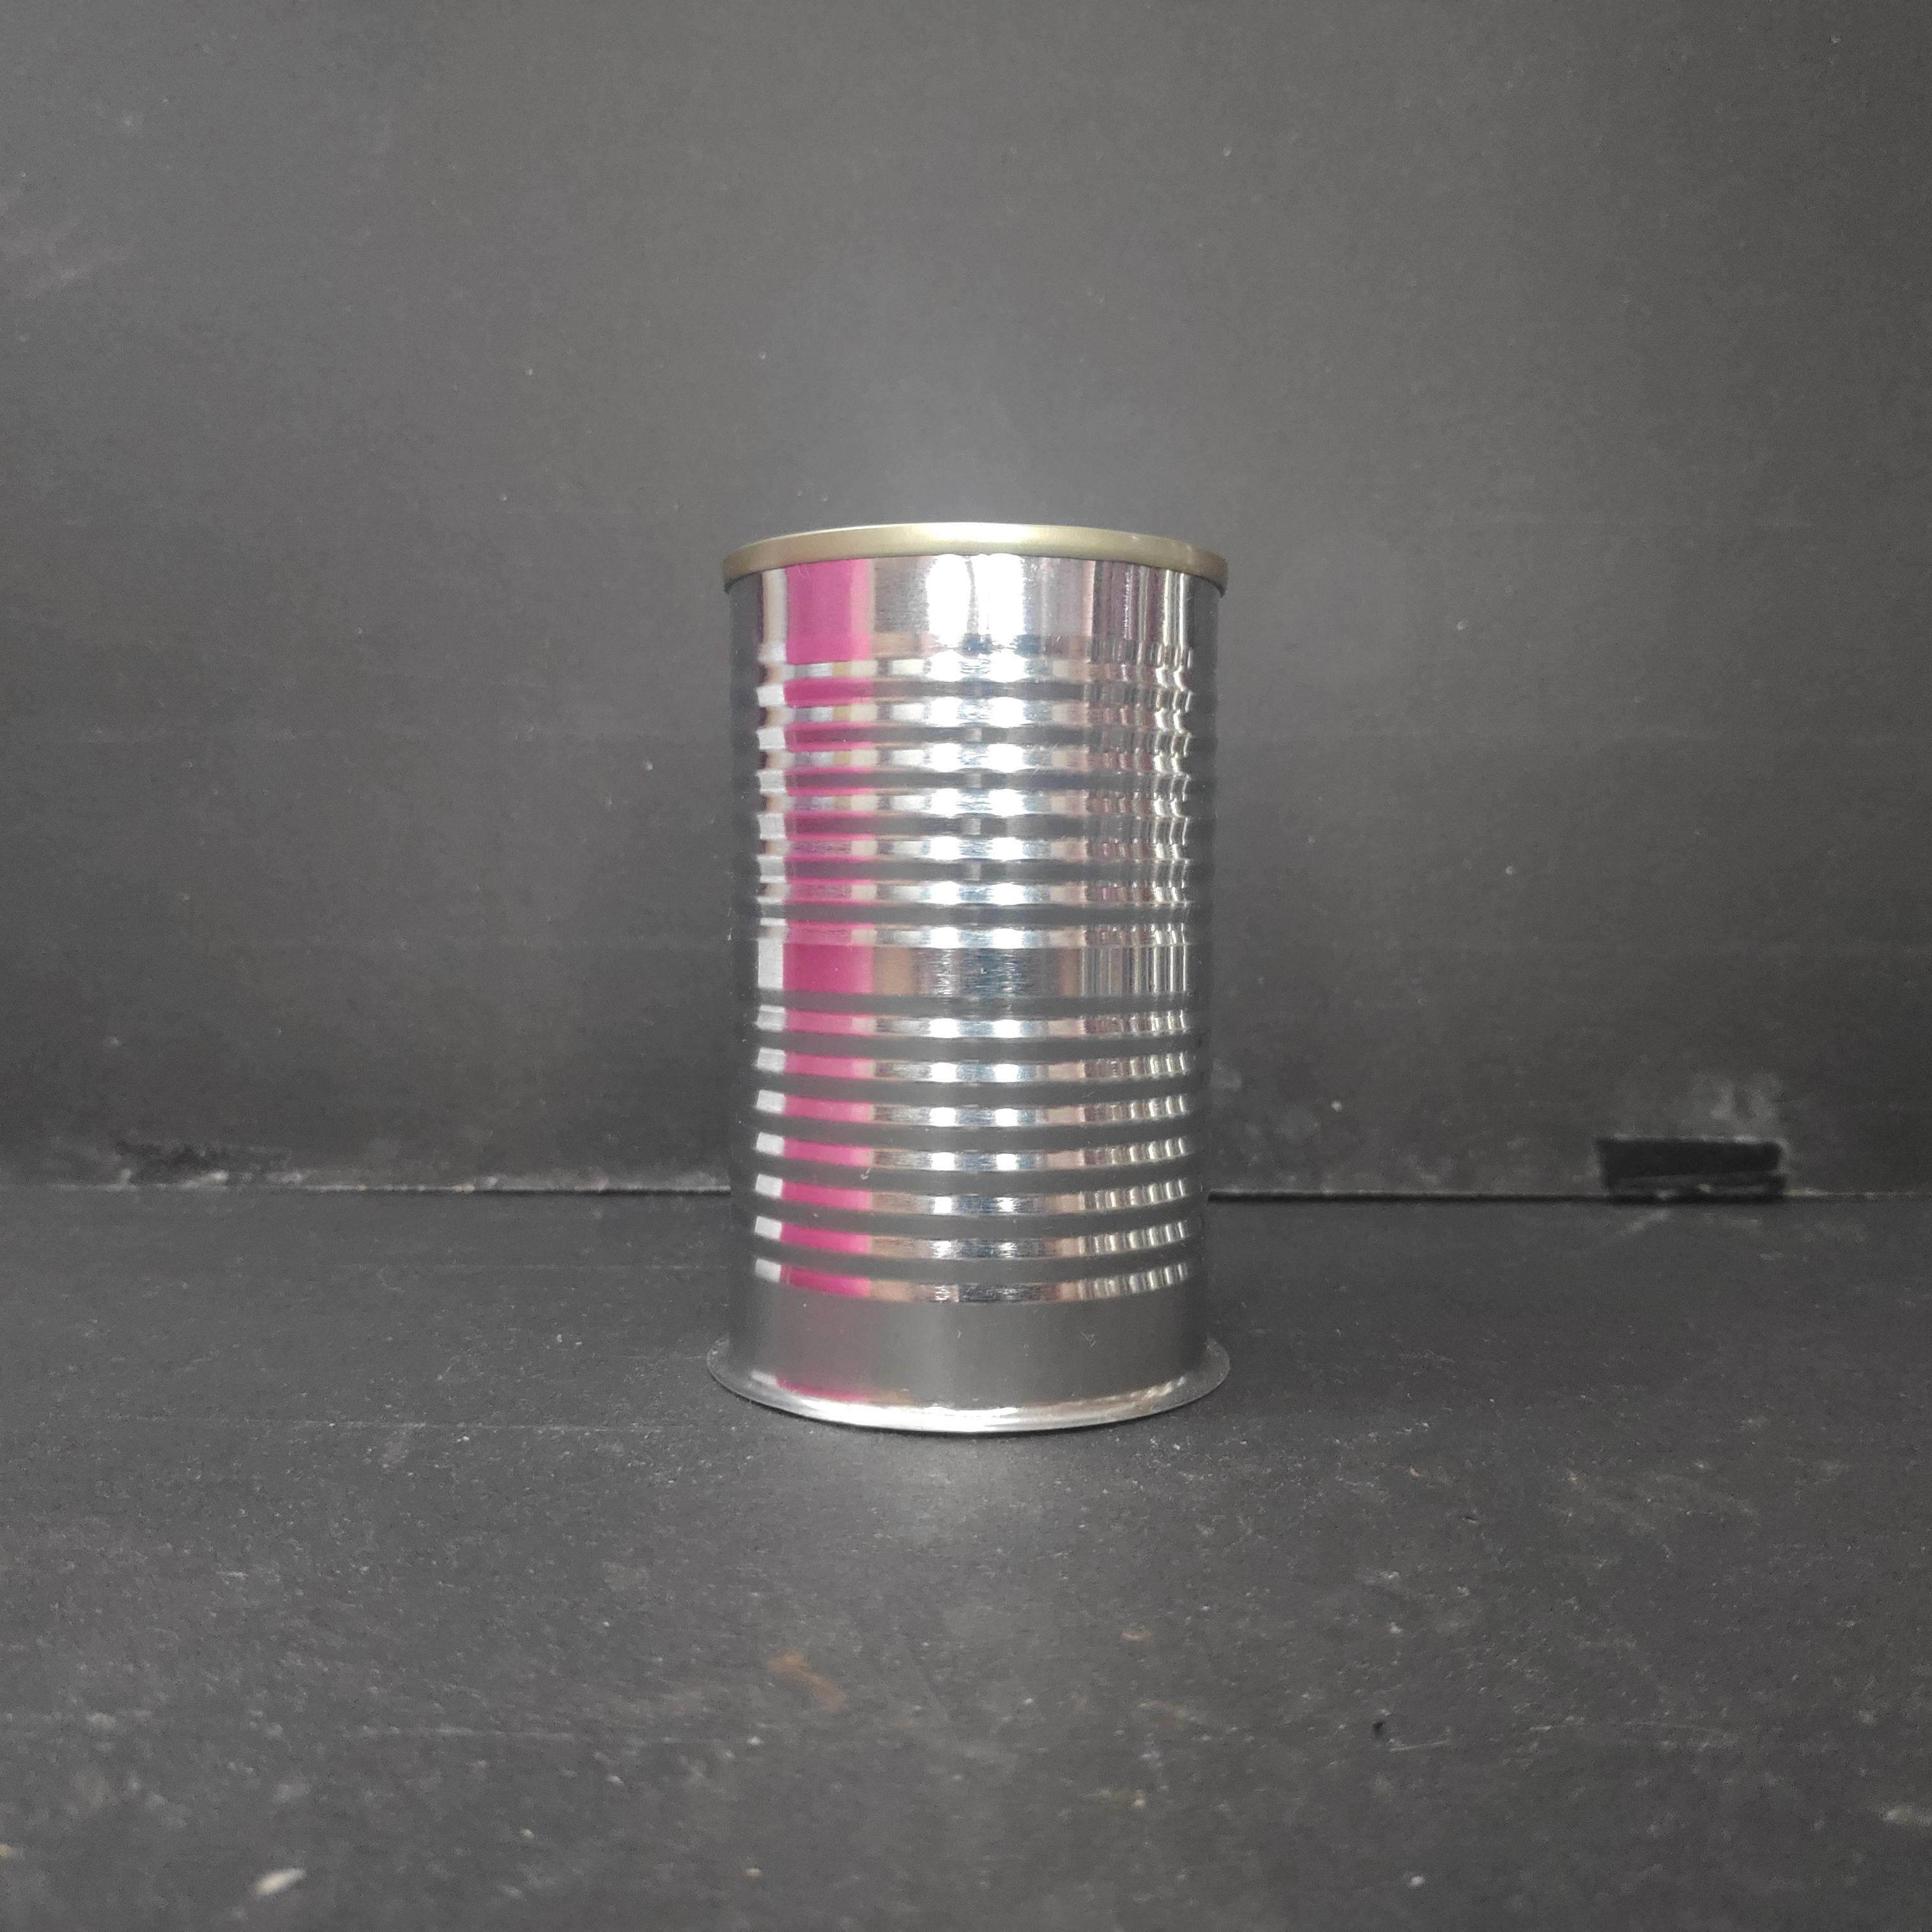No defect: (706, 522, 1231, 1435)
